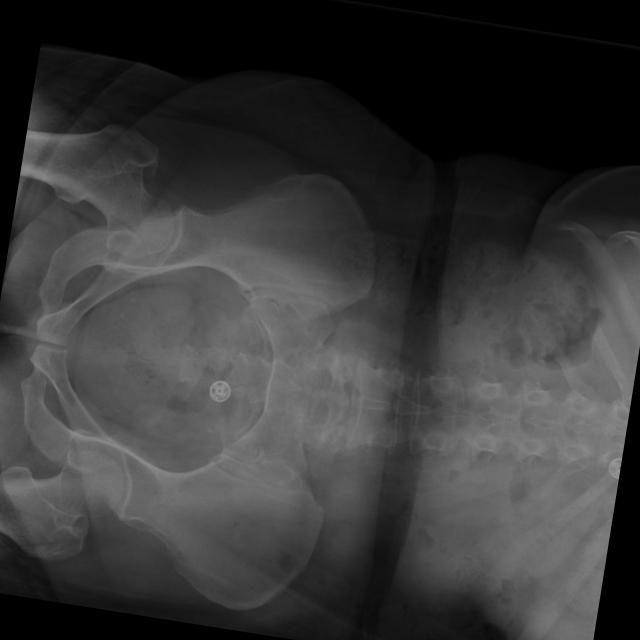normal-left: (0, 451, 123, 562)
normal-right: (20, 123, 173, 258)
